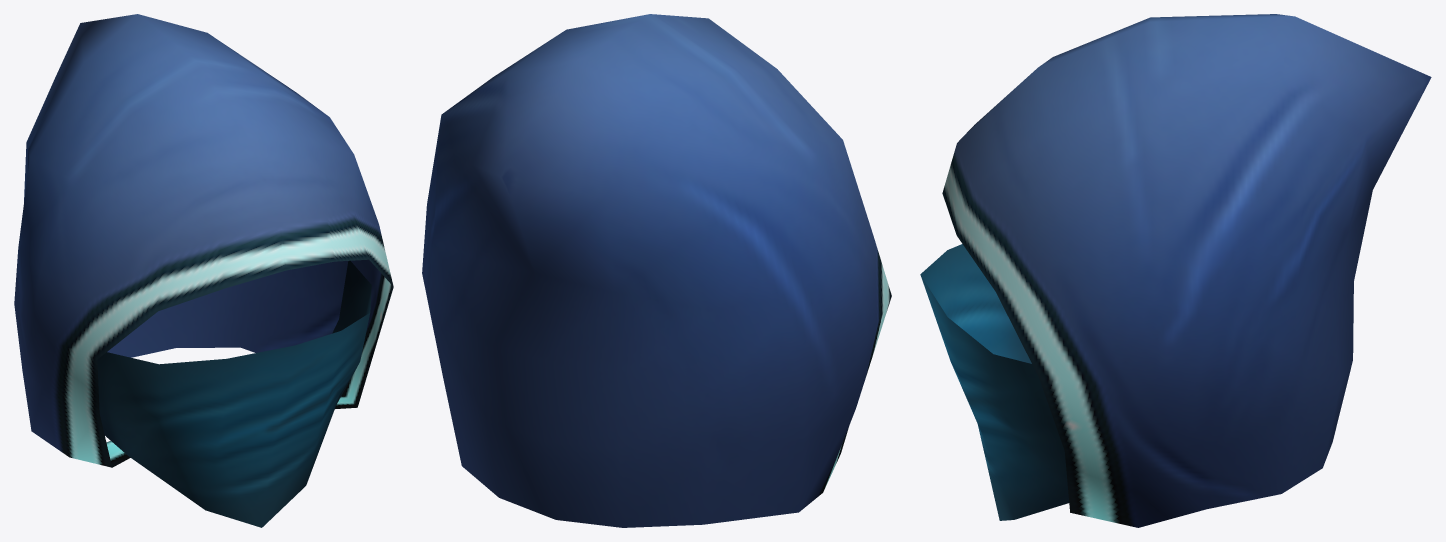
File: rogue_cap.FBX
3 views of the same model, side by side, from view 1: azimuth 30°, elevation 25°; view 2: azimuth 150°, elevation 25°; view 3: azimuth 270°, elevation 25° (orthographic). The views are drawn at different scales.
Parts seen in each view (by area): view 1: rogue_cap; view 2: rogue_cap; view 3: rogue_cap.
Part boxes in pixels (x1,y1,x2,y2): rogue_cap: (14, 14, 393, 527); rogue_cap: (422, 14, 891, 527); rogue_cap: (920, 14, 1431, 527).
Size of the model in its own units: 80.86 by 95.23 by 87.5.
